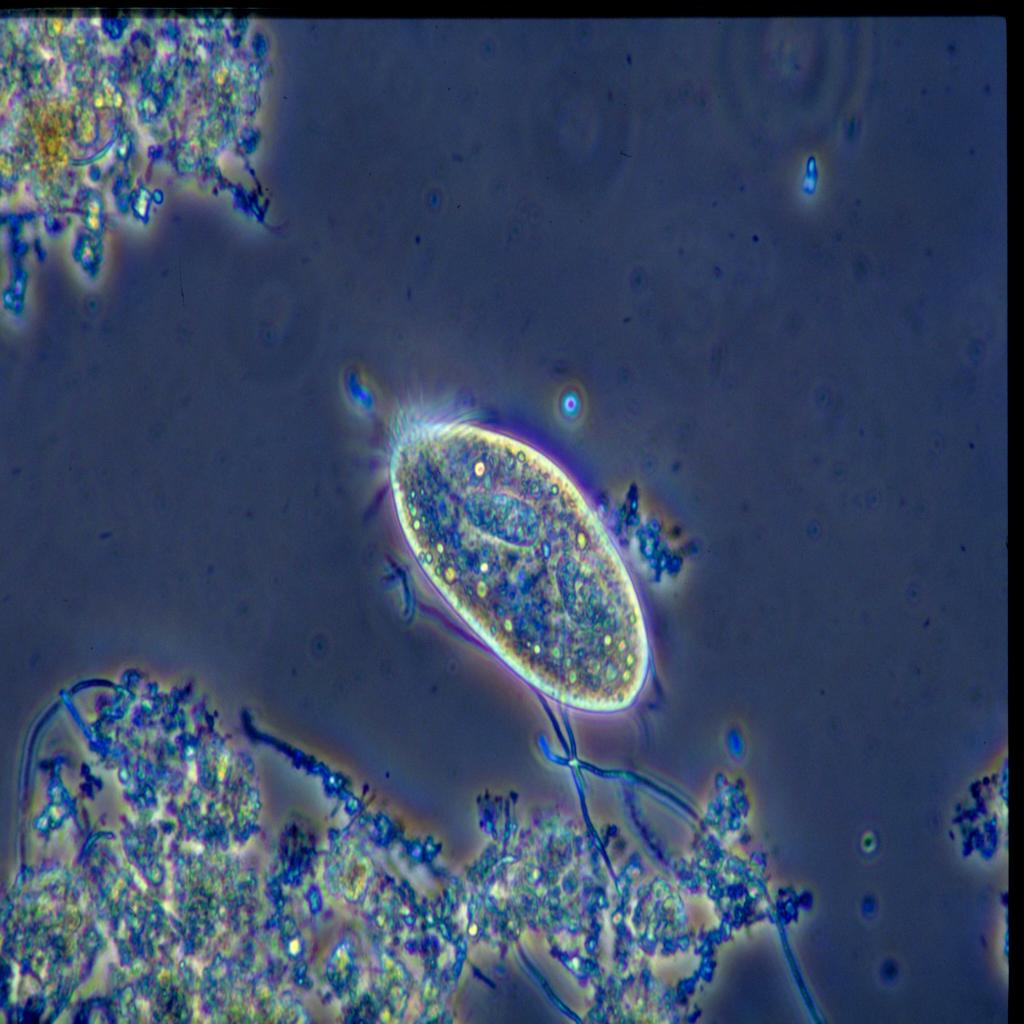Stylonychia: (342, 364, 672, 756)
